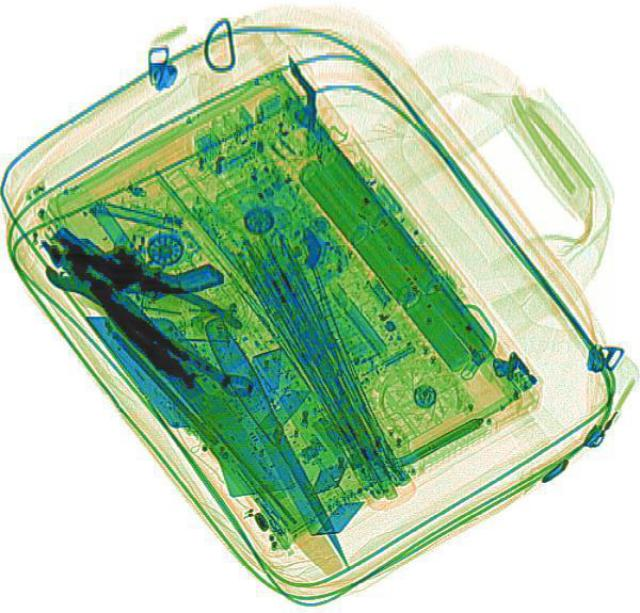Gun: (44, 181, 226, 330)
Knife: (193, 312, 367, 575)
Pliers: (20, 214, 246, 393)
Wrench: (36, 239, 264, 412)
